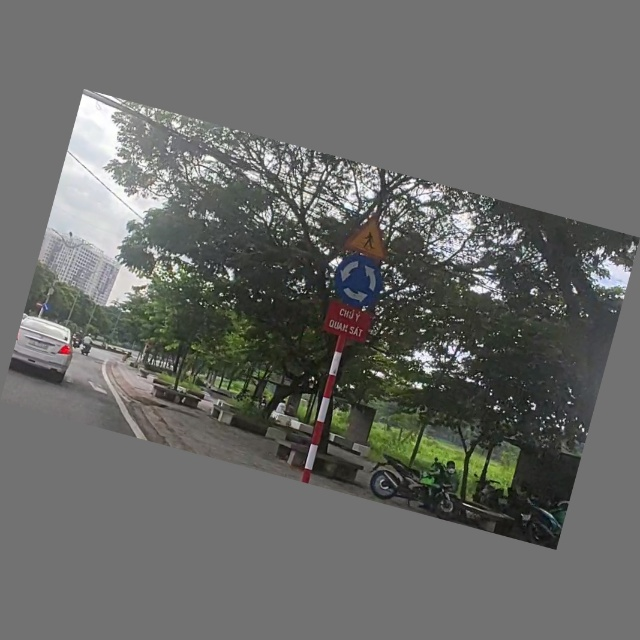P.102: (35, 301, 45, 310)
R.302a: (42, 304, 51, 313)
R.303: (327, 252, 392, 313)
W.224: (343, 210, 399, 262)
